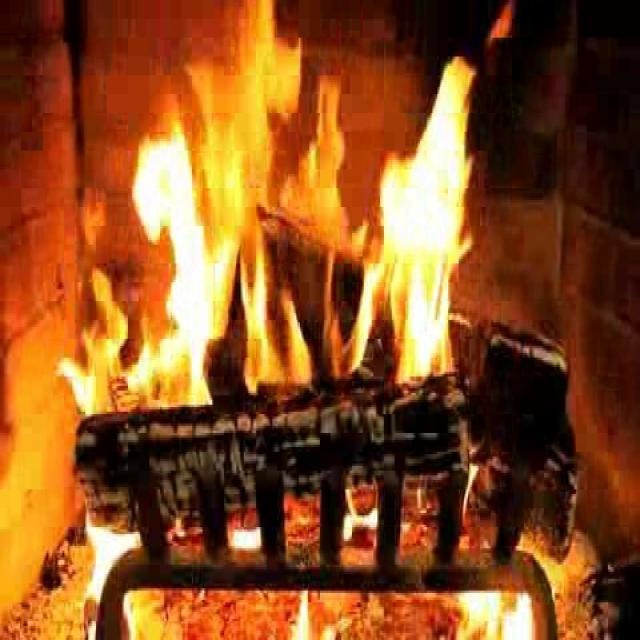Fire: (96, 12, 486, 444)
